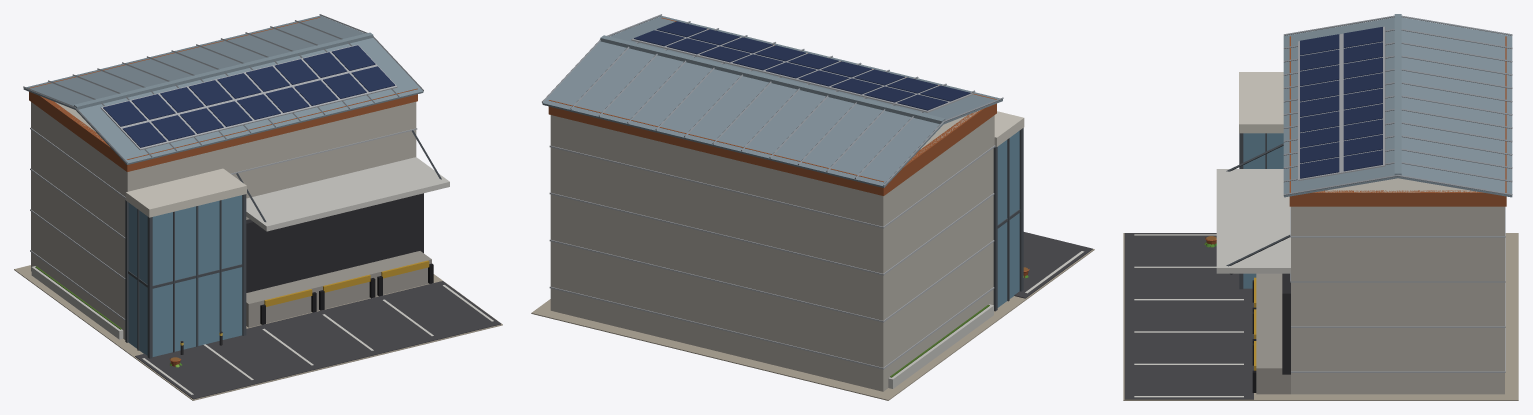
The model's file is factory_2.glb.
The picture shows the model from 3 angles, left to right: view 1: azimuth 30°, elevation 25°; view 2: azimuth 150°, elevation 25°; view 3: azimuth 270°, elevation 25°; orthographic projection. The views are drawn at different scales.
Parts seen in each view (by area): view 1: body; view 2: body; view 3: body.
Boxes of the visible parts, x1,y1,x2,y2 form: body: (14,14,502,400); body: (531,14,1094,400); body: (1123,14,1518,400).
Size of the model in its own units: 15.9 by 10.24 by 15.9.
